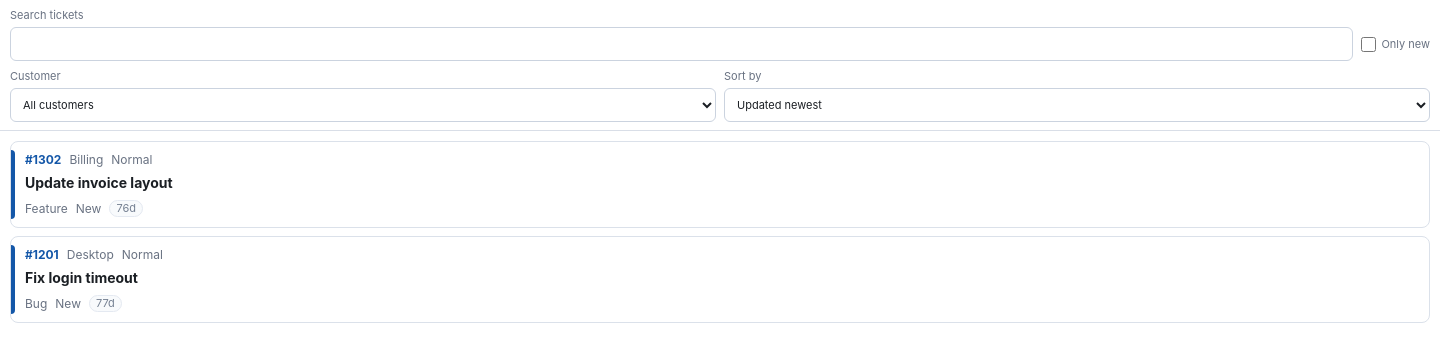
TicketList › filters tickets by search text across ticket number and subject
Type "1201" into the search field labelled "Search tickets" at (682, 44), box [10, 27, 1353, 61]
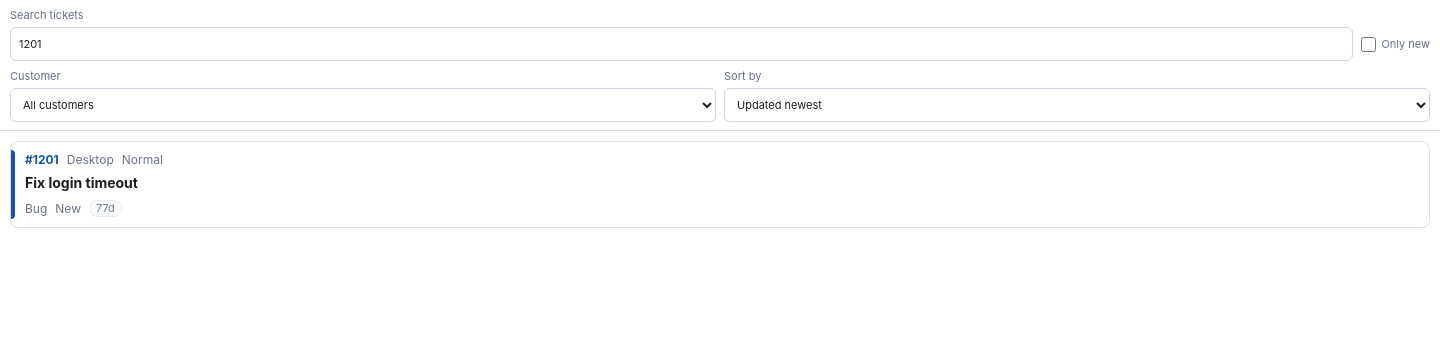
expect the text "Fix login timeout" is shown: met, box [25, 174, 138, 193]
expect the button "Update invoice layout" is gone: met
Replace the text in the search field labelled "Search tickets" with "invoice" at (682, 44), box [10, 27, 1353, 61]
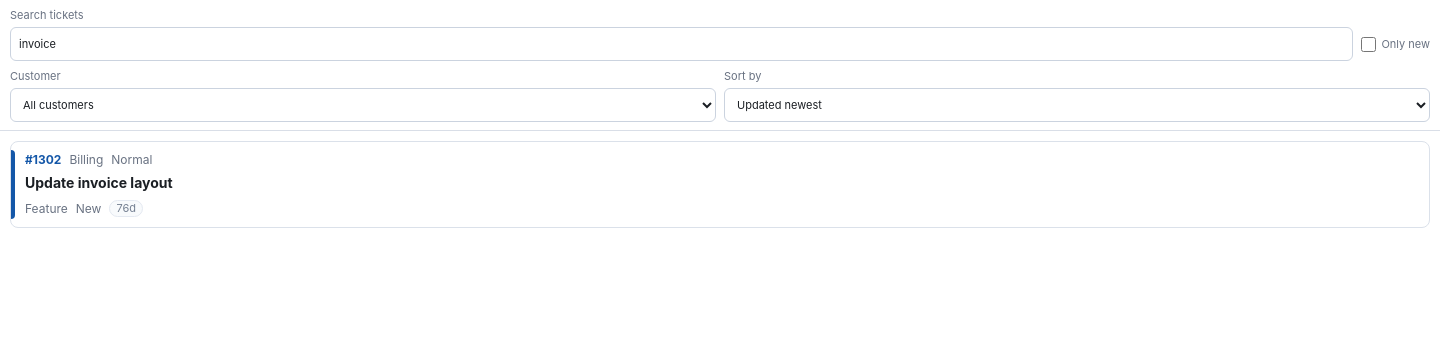
expect the button "Fix login timeout" is gone: met
expect the text "Update invoice layout" is shown: met, box [25, 174, 173, 193]
